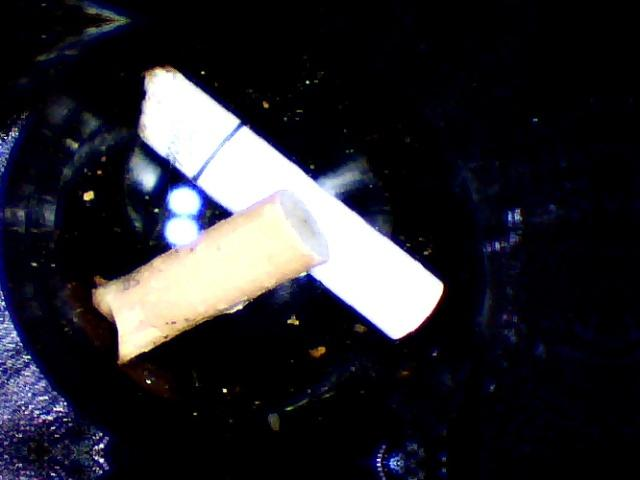megot: (119, 59, 451, 348), (86, 179, 336, 391)
